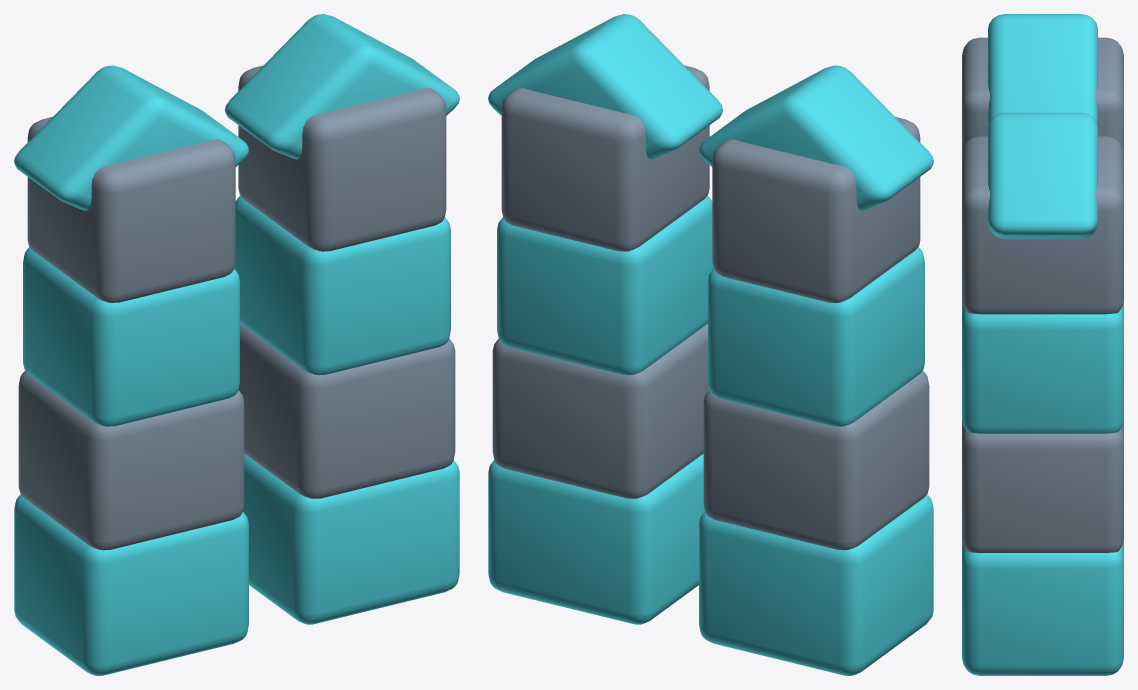
The model's file is greaves_v2.glb.
The picture shows the model from 3 angles, left to right: view 1: azimuth 30°, elevation 25°; view 2: azimuth 150°, elevation 25°; view 3: azimuth 270°, elevation 25°; orthographic projection. The views are drawn at different scales.
Parts seen in each view (by area): view 1: SEGMENTED_GREAVE_ACCENT, SEGMENTED_GREAVE_PRIMARY, SEGMENTED_GREAVE_ACCENT.001, SEGMENTED_GREAVE_ACCENT.002, SEGMENTED_GREAVE_ACCENT.003, SEGMENTED_GREAVE_PRIMARY.002, SEGMENTED_GREAVE_PRIMARY.001, SEGMENTED_GREAVE_PRIMARY.003, KNEE_WING_ACCENT, KNEE_WING_ACCENT.001; view 2: SEGMENTED_GREAVE_ACCENT, SEGMENTED_GREAVE_PRIMARY, SEGMENTED_GREAVE_ACCENT.001, SEGMENTED_GREAVE_ACCENT.002, SEGMENTED_GREAVE_ACCENT.003, SEGMENTED_GREAVE_PRIMARY.002, SEGMENTED_GREAVE_PRIMARY.001, SEGMENTED_GREAVE_PRIMARY.003, KNEE_WING_ACCENT, KNEE_WING_ACCENT.001; view 3: SEGMENTED_GREAVE_ACCENT.002, SEGMENTED_GREAVE_PRIMARY.002, SEGMENTED_GREAVE_ACCENT.003, SEGMENTED_GREAVE_PRIMARY.003, KNEE_WING_ACCENT.001, KNEE_WING_ACCENT, SEGMENTED_GREAVE_PRIMARY.001.
Part boxes in pixels (x1,y1,x2,y2): SEGMENTED_GREAVE_ACCENT: [14, 494, 248, 675]; SEGMENTED_GREAVE_PRIMARY: [18, 370, 244, 550]; SEGMENTED_GREAVE_ACCENT.001: [23, 247, 239, 426]; SEGMENTED_GREAVE_ACCENT.002: [243, 453, 459, 624]; SEGMENTED_GREAVE_ACCENT.003: [234, 195, 450, 375]; SEGMENTED_GREAVE_PRIMARY.002: [238, 323, 455, 498]; SEGMENTED_GREAVE_PRIMARY.001: [27, 117, 235, 302]; SEGMENTED_GREAVE_PRIMARY.003: [238, 65, 446, 251]; KNEE_WING_ACCENT: [14, 65, 248, 210]; KNEE_WING_ACCENT.001: [225, 14, 459, 159]; SEGMENTED_GREAVE_ACCENT: [699, 494, 933, 675]; SEGMENTED_GREAVE_PRIMARY: [703, 370, 929, 550]; SEGMENTED_GREAVE_ACCENT.001: [708, 247, 924, 426]; SEGMENTED_GREAVE_ACCENT.002: [488, 453, 704, 624]; SEGMENTED_GREAVE_ACCENT.003: [497, 195, 713, 375]; SEGMENTED_GREAVE_PRIMARY.002: [492, 323, 709, 498]; SEGMENTED_GREAVE_PRIMARY.001: [712, 117, 920, 302]; SEGMENTED_GREAVE_PRIMARY.003: [501, 65, 709, 251]; KNEE_WING_ACCENT: [699, 65, 933, 210]; KNEE_WING_ACCENT.001: [488, 14, 722, 159]; SEGMENTED_GREAVE_ACCENT.002: [962, 539, 1123, 675]; SEGMENTED_GREAVE_PRIMARY.002: [962, 420, 1123, 552]; SEGMENTED_GREAVE_ACCENT.003: [962, 300, 1123, 433]; SEGMENTED_GREAVE_PRIMARY.003: [962, 136, 1123, 314]; KNEE_WING_ACCENT.001: [988, 112, 1097, 239]; KNEE_WING_ACCENT: [988, 14, 1097, 124]; SEGMENTED_GREAVE_PRIMARY.001: [962, 37, 1123, 152].
Size of the model in its own units: 1.37 by 1.8 by 0.5.
